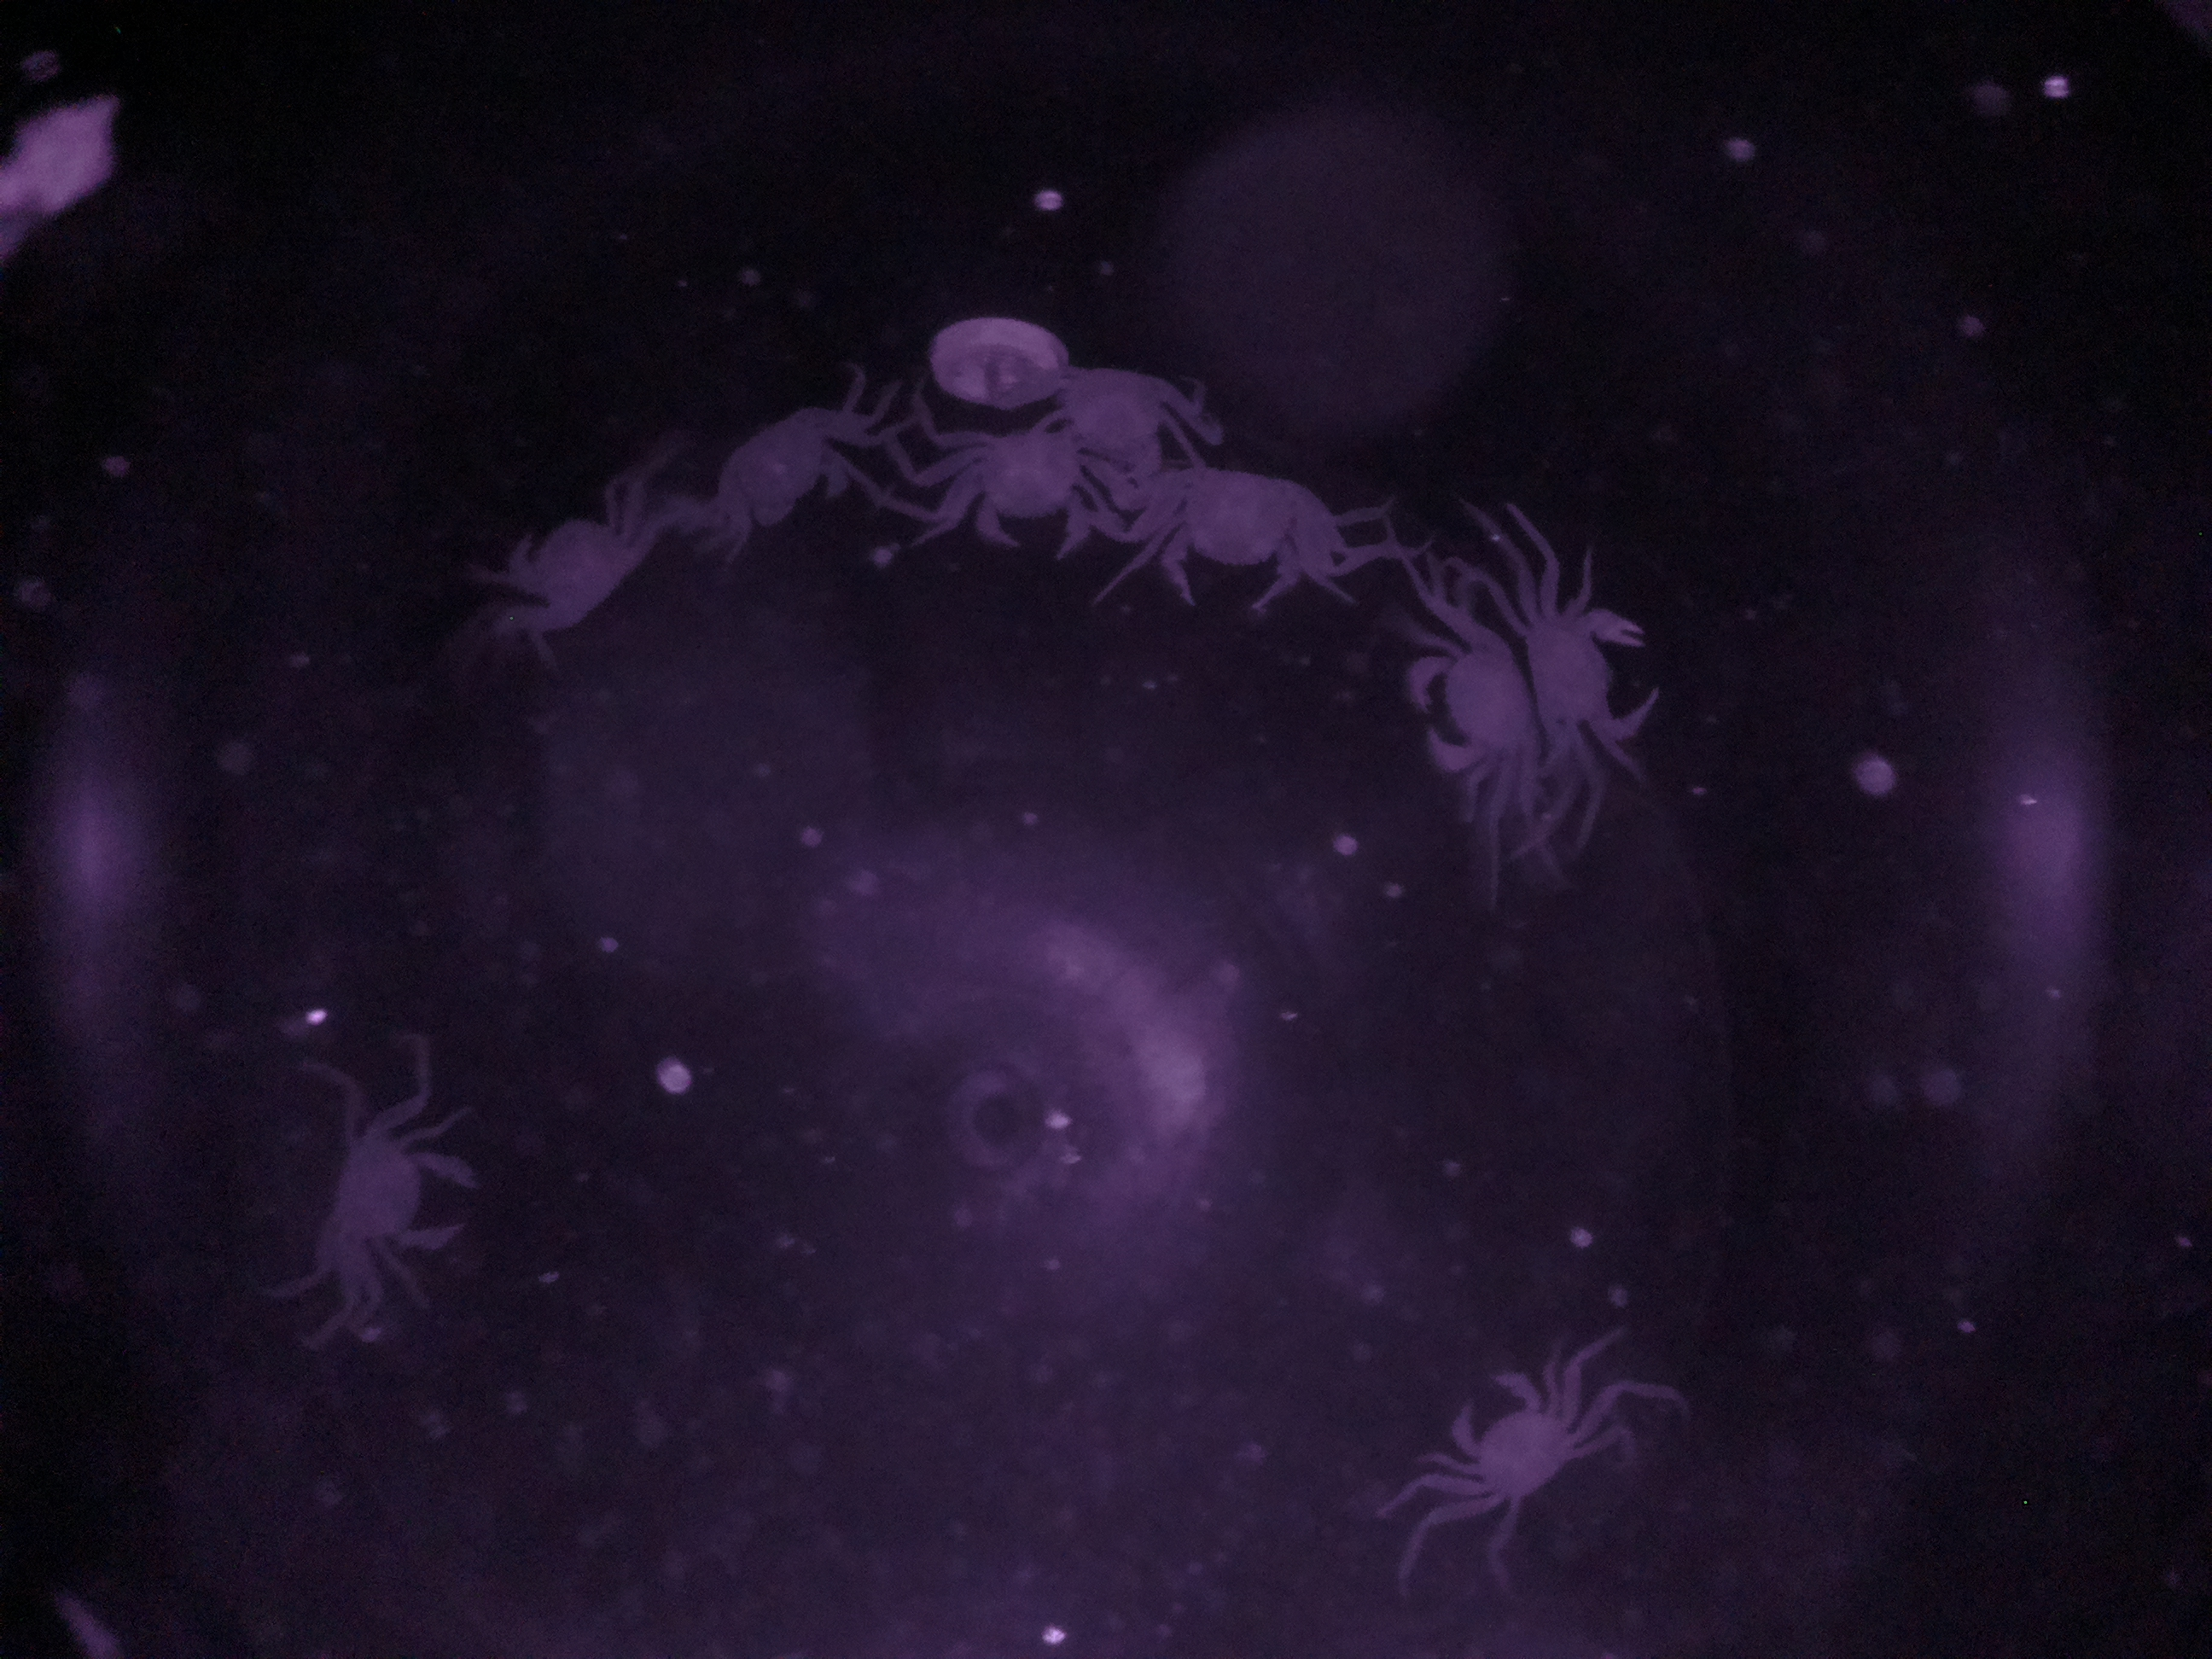Crab: (1115, 434, 1348, 633), (1521, 572, 1693, 791), (296, 1115, 516, 1279), (1432, 1331, 1604, 1525), (935, 392, 1111, 566), (1388, 615, 1529, 810)
